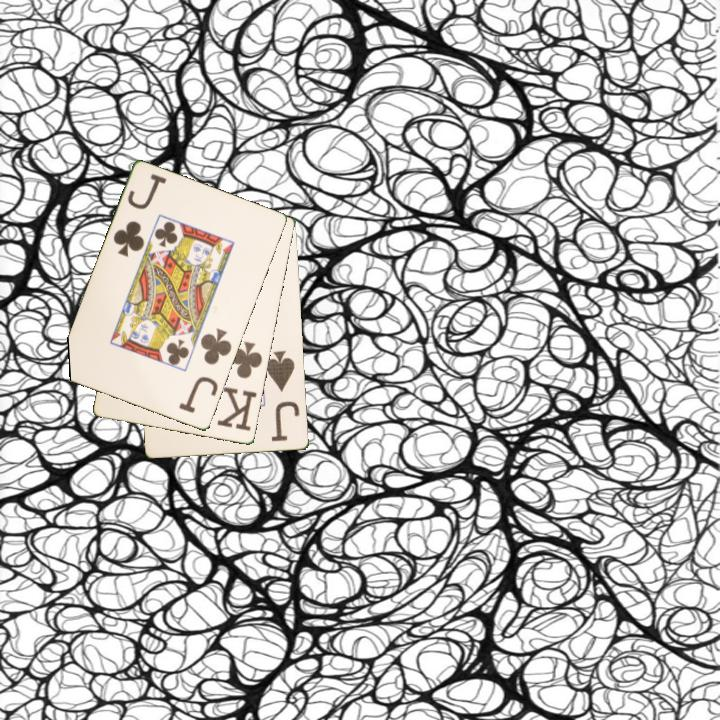Jc: (175, 325, 235, 416), (110, 170, 170, 260)
Js: (263, 348, 303, 445)
Kc: (215, 338, 265, 434)
